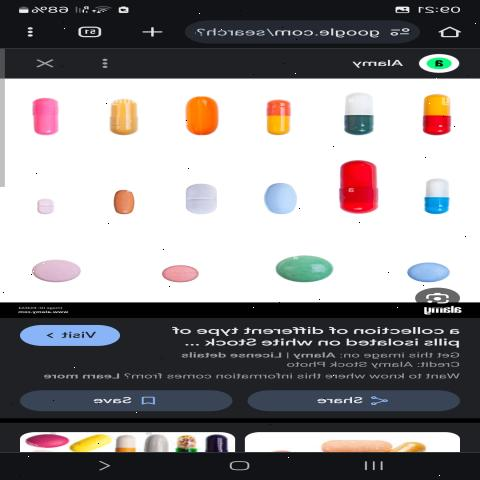Pill: (0, 91, 82, 158), (316, 154, 393, 222), (323, 86, 389, 146), (88, 93, 160, 147), (262, 246, 344, 290), (174, 90, 237, 146), (397, 89, 456, 144), (168, 182, 234, 227), (22, 254, 91, 296), (246, 178, 302, 228), (380, 253, 464, 286), (412, 171, 467, 221), (249, 98, 309, 142), (148, 254, 207, 290), (95, 186, 149, 224), (27, 196, 63, 222)
